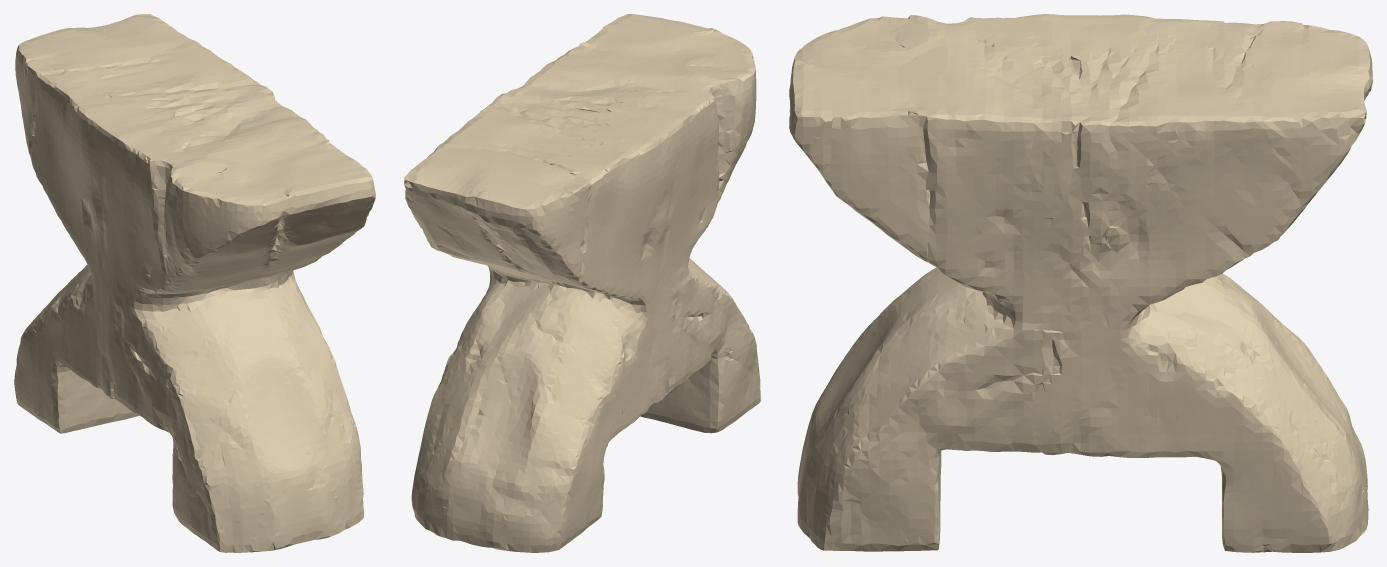
File: stolform-08.glb
The picture shows the model from 3 angles, left to right: view 1: azimuth 30°, elevation 25°; view 2: azimuth 150°, elevation 25°; view 3: azimuth 270°, elevation 25°; orthographic projection. The views are drawn at different scales.
Visible parts, largest first — view 1: stolform-08; view 2: stolform-08; view 3: stolform-08.
Boxes of the visible parts, left/top/right/bottom form: stolform-08: left=14, top=14, right=375, bottom=552; stolform-08: left=404, top=14, right=760, bottom=552; stolform-08: left=789, top=14, right=1372, bottom=552.
Size of the model in its own units: 0.4355 by 0.8434 by 0.999.
